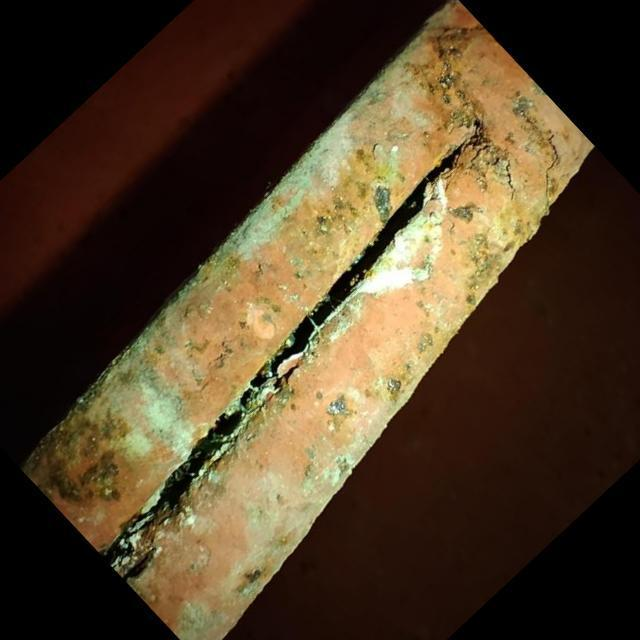defect: (100, 145, 468, 571), (543, 130, 562, 198), (502, 158, 517, 205)
